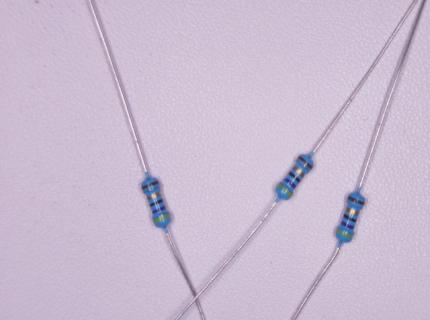Gold band: (292, 166, 305, 178), (147, 192, 161, 201), (346, 207, 360, 215)
Violet band: (284, 178, 297, 189), (341, 221, 355, 230), (153, 205, 166, 214)
Yellow band: (278, 183, 292, 197), (153, 213, 170, 223), (337, 229, 353, 238)
